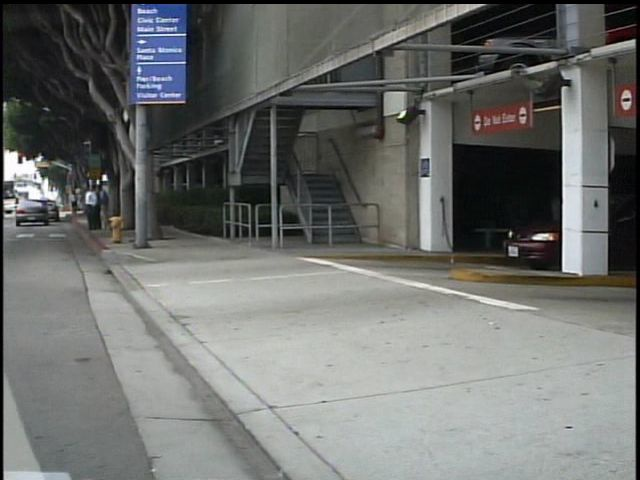person: (71, 186, 88, 220)
